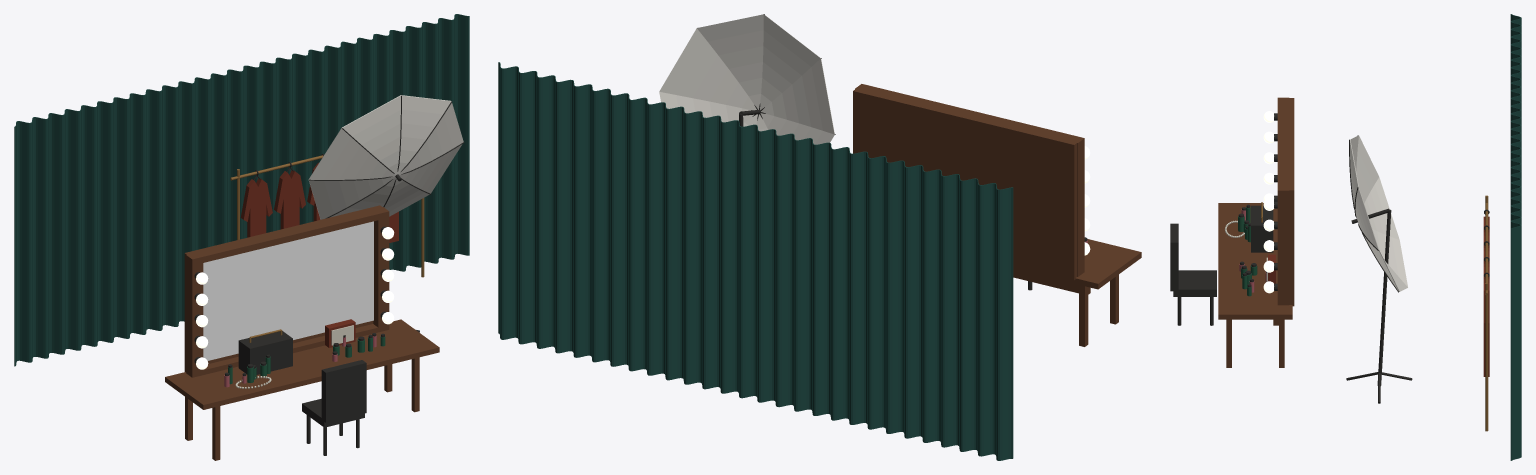
3 views of the same model, side by side, from view 1: azimuth 30°, elevation 25°; view 2: azimuth 150°, elevation 25°; view 3: azimuth 270°, elevation 25° (orthographic). The views are drawn at different scales.
Parts seen in each view (by area): view 1: MIRROR_surface, UMBRELLA_finite_canopy_proxy, TABLE_top, CURTAIN_fold_proxy_7, CURTAIN_fold_proxy_8, CURTAIN_fold_proxy_0, CURTAIN_fold_proxy_3, CURTAIN_fold_proxy_1, CURTAIN_fold_proxy_2, CURTAIN_fold_proxy_9, CURTAIN_fold_proxy_5, CURTAIN_fold_proxy_6 (+31 smaller); view 2: MIRROR_backboard_inferred, UMBRELLA_finite_canopy_proxy, CURTAIN_fold_proxy_0, CURTAIN_fold_proxy_2, CURTAIN_fold_proxy_20, CURTAIN_fold_proxy_12, CURTAIN_fold_proxy_22, CURTAIN_fold_proxy_4, CURTAIN_fold_proxy_14, CURTAIN_fold_proxy_18, CURTAIN_fold_proxy_25, CURTAIN_fold_proxy_1 (+21 smaller); view 3: TABLE_top, UMBRELLA_finite_canopy_proxy, CURTAIN_fold_proxy_27, MIRROR_frame_1, MIRROR_backboard_inferred, CHAIR_seat_proxy, MIRROR_frame_horizontal_2.31, COSMETIC_case_body, UMBRELLA_stand_inferred, CHAIR_back_proxy, RACK_post_proxy.001, GARMENT_finite_proxy_4.
Part boxes in pixels (left/top/right/bottom): MIRROR_surface: left=203, top=221, right=373, bottom=360; UMBRELLA_finite_canopy_proxy: left=308, top=95, right=463, bottom=219; TABLE_top: left=165, top=319, right=439, bottom=409; CURTAIN_fold_proxy_7: left=128, top=93, right=144, bottom=338; CURTAIN_fold_proxy_8: left=144, top=89, right=160, bottom=334; CURTAIN_fold_proxy_0: left=14, top=121, right=30, bottom=366; CURTAIN_fold_proxy_3: left=63, top=109, right=79, bottom=354; CURTAIN_fold_proxy_1: left=31, top=117, right=47, bottom=362; CURTAIN_fold_proxy_2: left=47, top=113, right=63, bottom=358; CURTAIN_fold_proxy_9: left=161, top=85, right=177, bottom=330; CURTAIN_fold_proxy_5: left=96, top=101, right=112, bottom=346; CURTAIN_fold_proxy_6: left=112, top=97, right=128, bottom=342; MIRROR_backboard_inferred: left=853, top=88, right=1077, bottom=280; UMBRELLA_finite_canopy_proxy: left=659, top=14, right=834, bottom=144; CURTAIN_fold_proxy_0: left=994, top=183, right=1013, bottom=460; CURTAIN_fold_proxy_2: left=957, top=174, right=976, bottom=451; CURTAIN_fold_proxy_20: left=627, top=93, right=645, bottom=371; CURTAIN_fold_proxy_12: left=774, top=129, right=792, bottom=407; CURTAIN_fold_proxy_22: left=590, top=84, right=608, bottom=362; CURTAIN_fold_proxy_4: left=921, top=165, right=939, bottom=442; CURTAIN_fold_proxy_14: left=737, top=120, right=755, bottom=398; CURTAIN_fold_proxy_18: left=663, top=102, right=682, bottom=380; CURTAIN_fold_proxy_25: left=535, top=71, right=553, bottom=348; CURTAIN_fold_proxy_1: left=976, top=178, right=994, bottom=456; TABLE_top: left=1218, top=203, right=1292, bottom=319; UMBRELLA_finite_canopy_proxy: left=1350, top=135, right=1407, bottom=291; CURTAIN_fold_proxy_27: left=1510, top=221, right=1521, bottom=460; MIRROR_frame_1: left=1277, top=185, right=1289, bottom=305; MIRROR_backboard_inferred: left=1287, top=98, right=1294, bottom=306; CHAIR_seat_proxy: left=1173, top=270, right=1216, bottom=296; MIRROR_frame_horizontal_2.31: left=1277, top=102, right=1289, bottom=185; COSMETIC_case_body: left=1251, top=205, right=1273, bottom=252; UMBRELLA_stand_inferred: left=1377, top=209, right=1391, bottom=385; CHAIR_back_proxy: left=1170, top=223, right=1178, bottom=291; RACK_post_proxy.001: left=1485, top=282, right=1488, bottom=431; GARMENT_finite_proxy_4: left=1483, top=279, right=1489, bottom=376.
Bounding box in the file's own units: 6.16 × 3.34 × 4.25.
